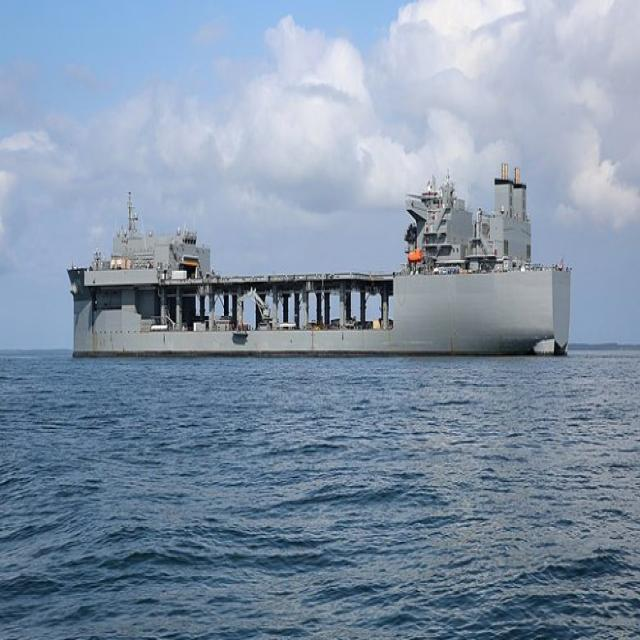navalvessels: (52, 154, 569, 372)
